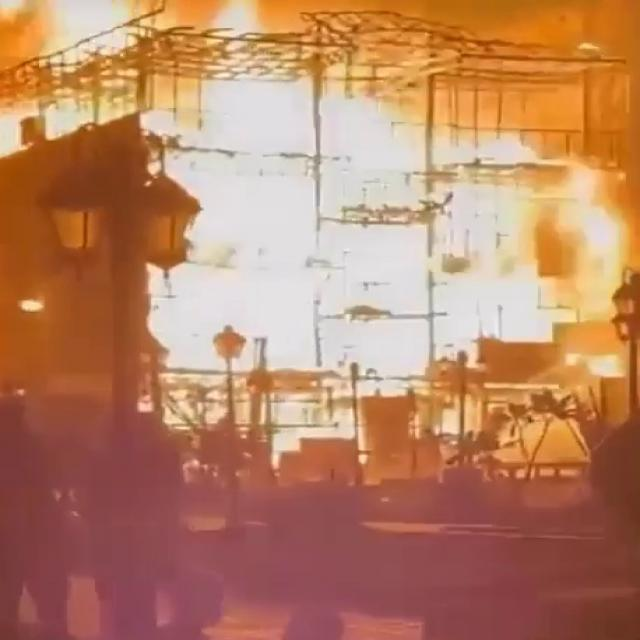Fire: (436, 159, 625, 382), (148, 142, 320, 372), (317, 97, 433, 386), (169, 370, 404, 441), (190, 80, 317, 161), (3, 91, 147, 147), (36, 0, 133, 55), (433, 127, 541, 166), (212, 0, 261, 36)
